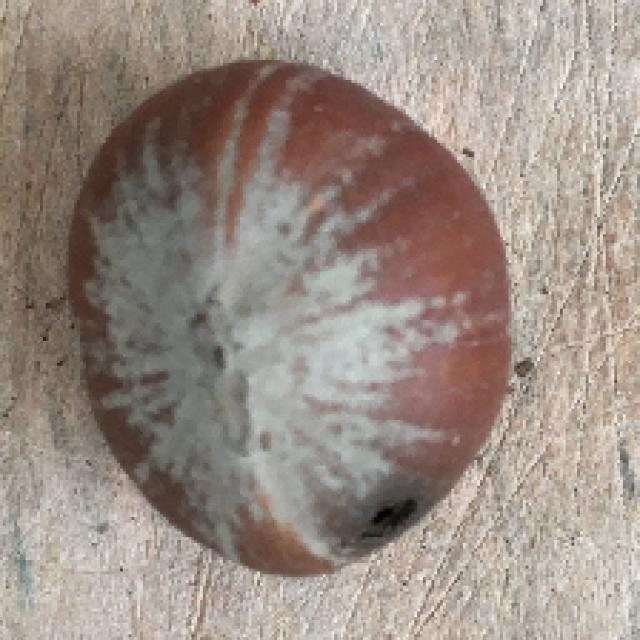damagedHazelnut: (63, 58, 516, 580)
